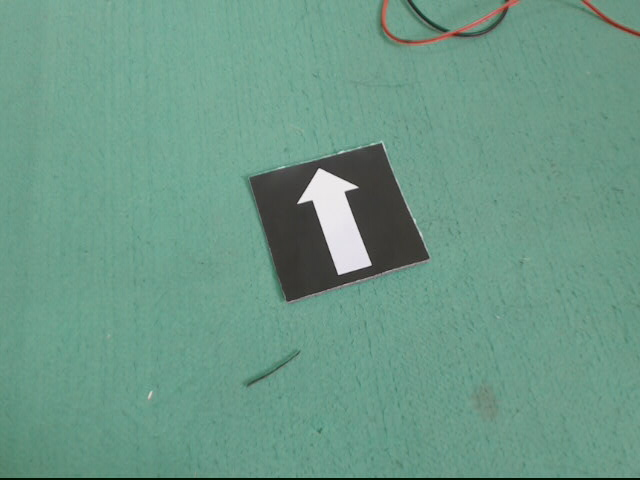straight: (251, 143, 427, 307)
